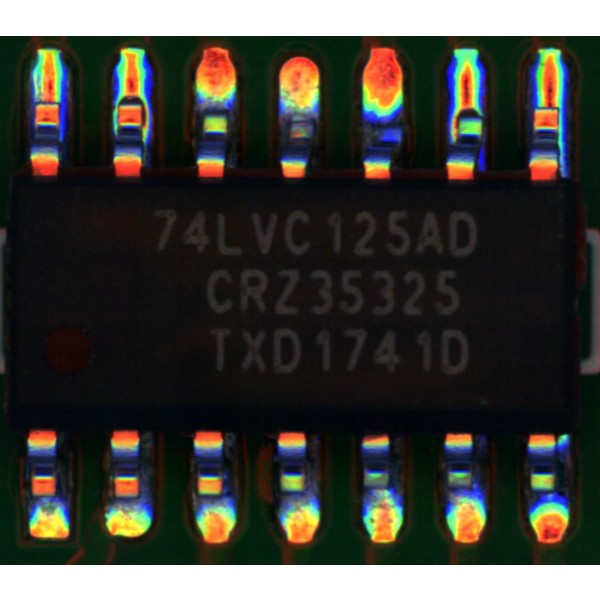Bad_podu: (543, 86, 557, 121), (42, 82, 56, 117)
Bad_qiaojiao: (559, 109, 567, 179), (142, 103, 153, 146), (58, 104, 66, 142), (449, 111, 457, 147), (112, 103, 118, 137)
